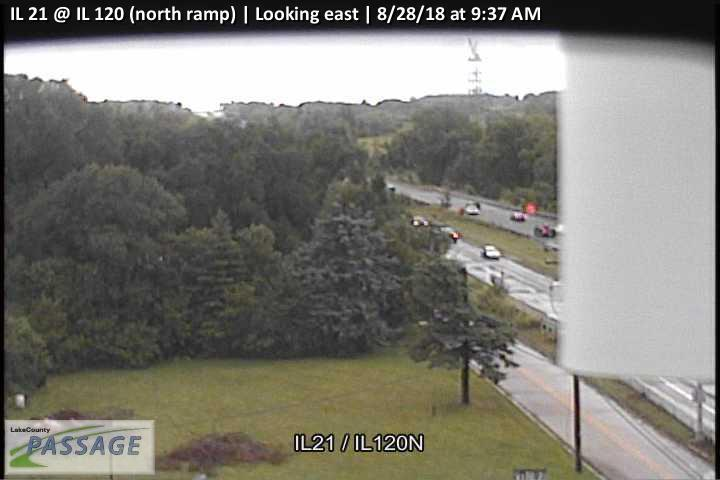Sedan: (481, 245, 501, 259)
